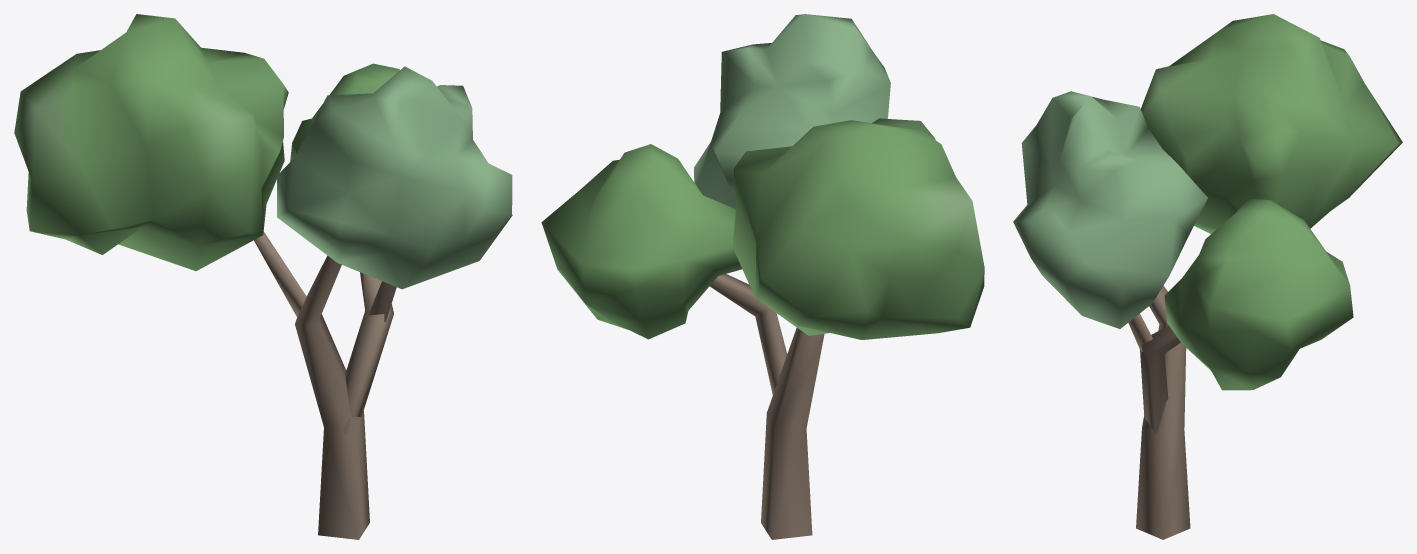
Rendered from oak2-v4-lod1.glb.
3 views of the same model, side by side, from view 1: azimuth 30°, elevation 25°; view 2: azimuth 150°, elevation 25°; view 3: azimuth 270°, elevation 25° (orthographic). The views are drawn at different scales.
Visible parts, largest first — view 1: oak2-lod1; view 2: oak2-lod1; view 3: oak2-lod1.
Part boxes in pixels (left/top/right/bottom): oak2-lod1: left=14, top=14, right=512, bottom=539; oak2-lod1: left=541, top=14, right=984, bottom=539; oak2-lod1: left=1013, top=14, right=1402, bottom=539.
Size of the model in its own units: 10.91 by 11.75 by 9.33.
